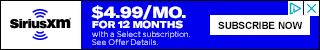fake_button: (208, 13, 312, 38)
